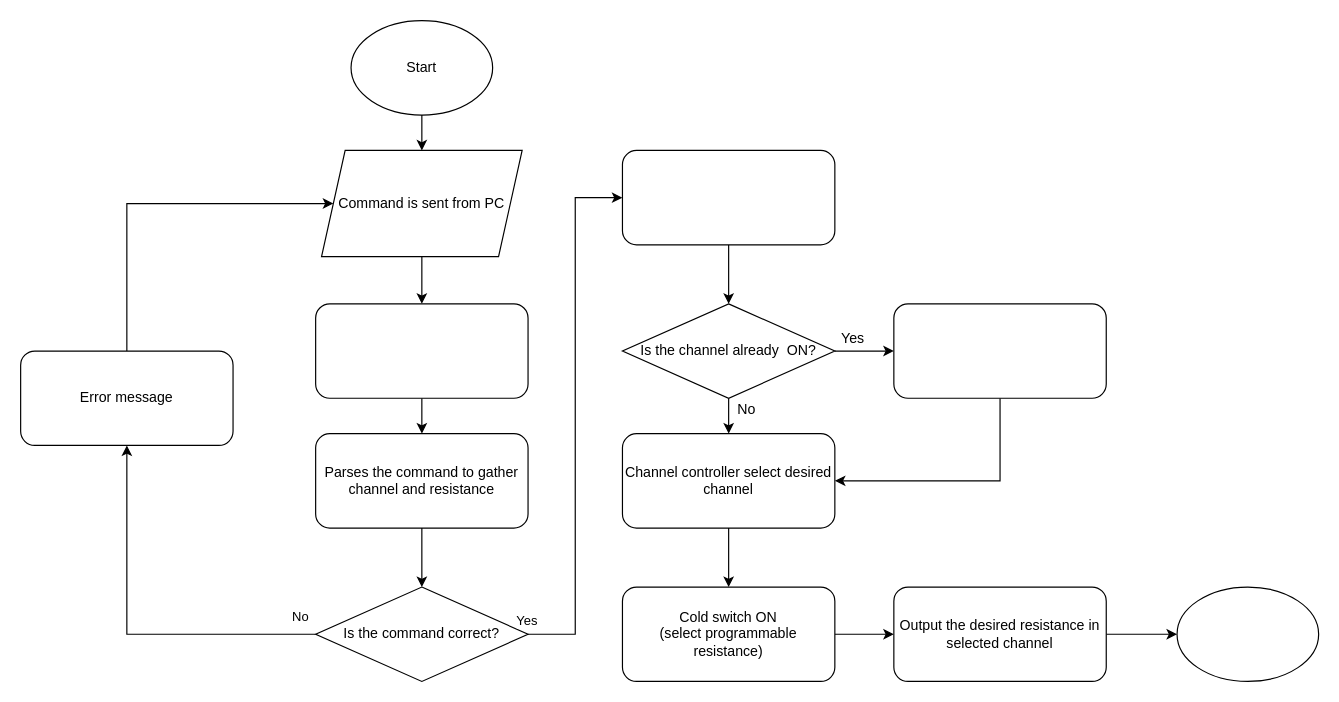
This 1339x702 diagram has some shape labels left out. Here are the shapes that lost their labels. From the top down, the box of each, then its label:
(621, 149, 835, 245): Store resistance value in the programmable resistances
(314, 303, 528, 398): Microcontroller receive the command
(893, 303, 1106, 398): Cold switch OFF (select external resistance)
(1176, 586, 1319, 681): END
